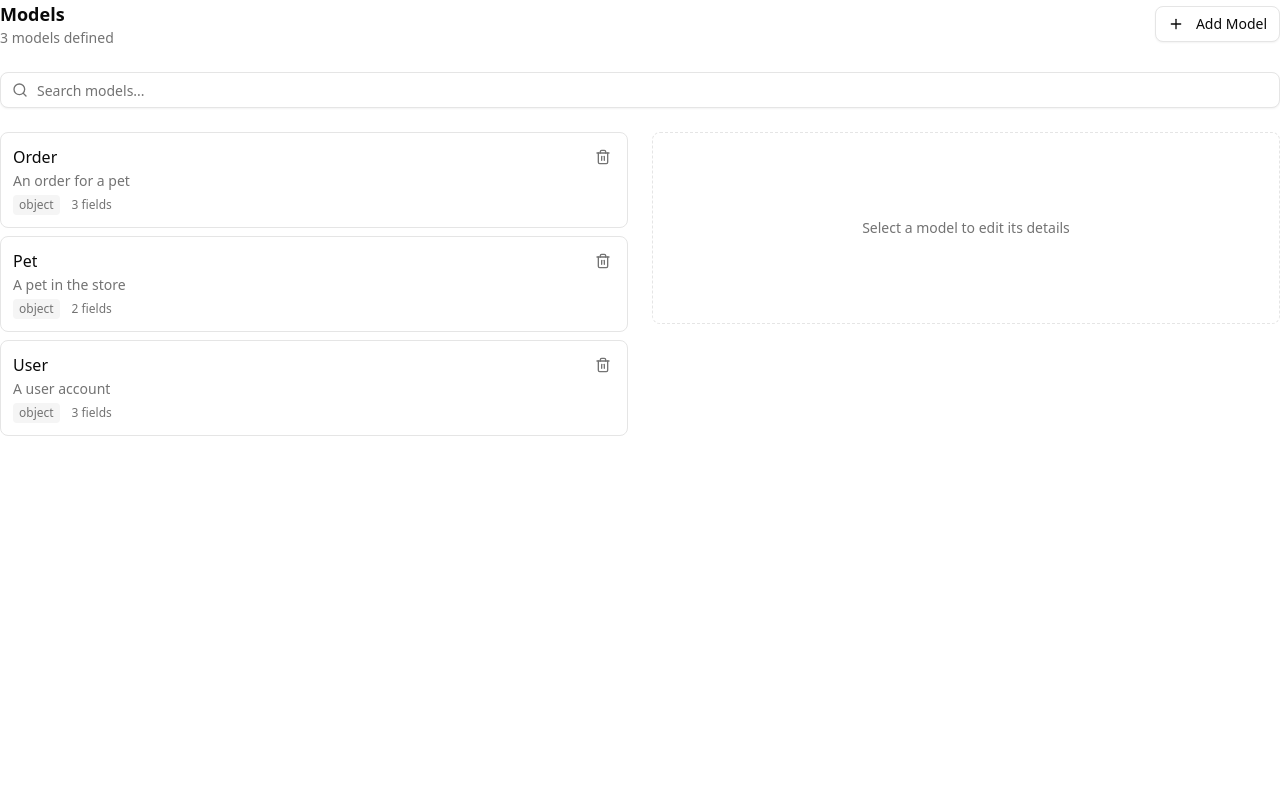
it: ModelsTab › Delete Model › should show confirmation dialog when delete clicked
Click the button named "Delete Order model": click(603, 157) [591,145,615,169]
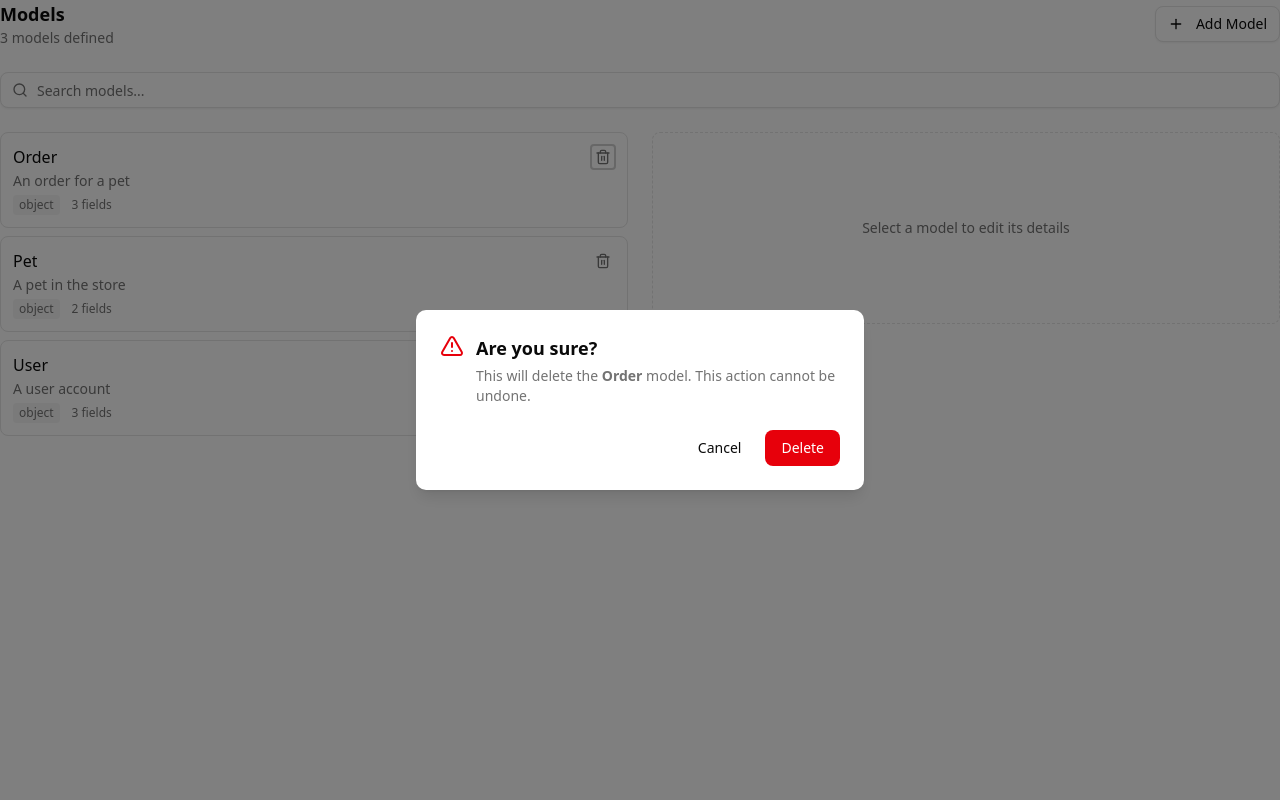
Result: the dialog is shown
Result: the heading "Are you sure?" is shown at [476,336,597,360]
